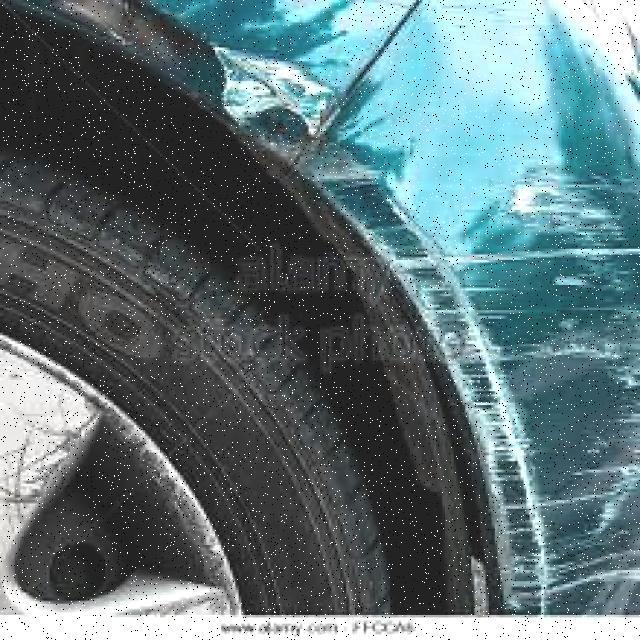car damage: (224, 28, 640, 615)
